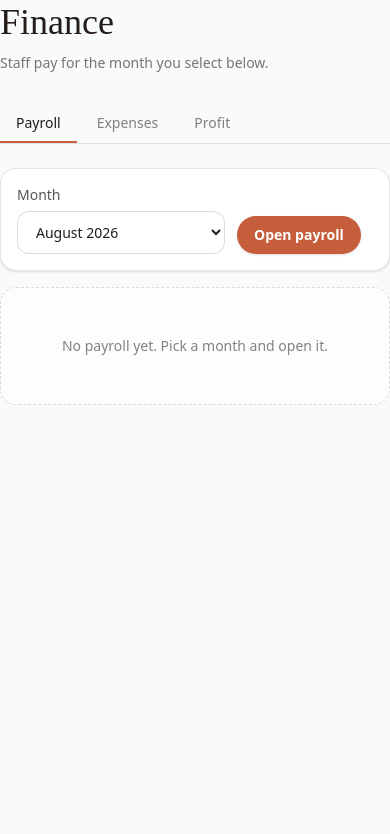
Test case: FinanceView — the phone (md:hidden) expense log › links a locked card to its payroll run, switching to the Payroll tab and opening that run
Click the button "Expenses": [128, 124] box [81,105,174,143]
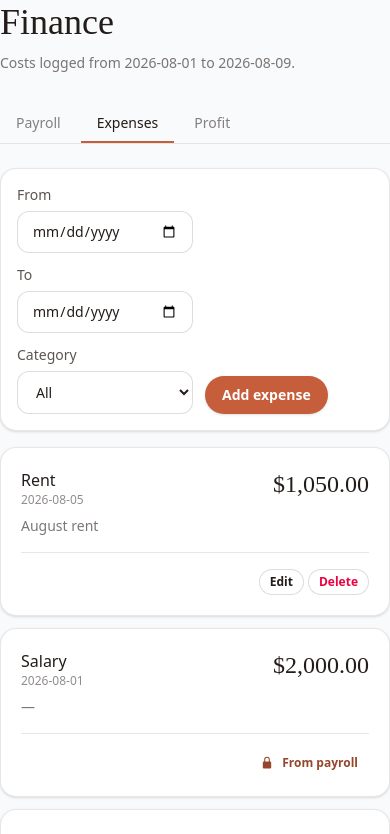
Click the button "From payroll": [309, 763] box [249,750,369,776]
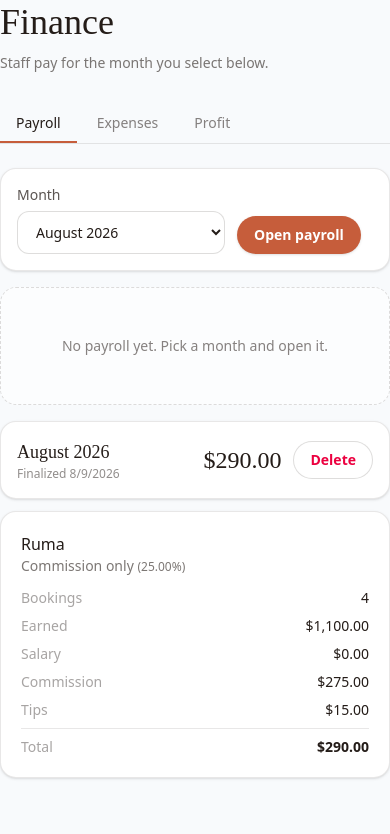
Result: the text "Open payroll" is shown at [237,216,361,254]
Result: the text "Ruma" is shown at [21,533,65,555]
